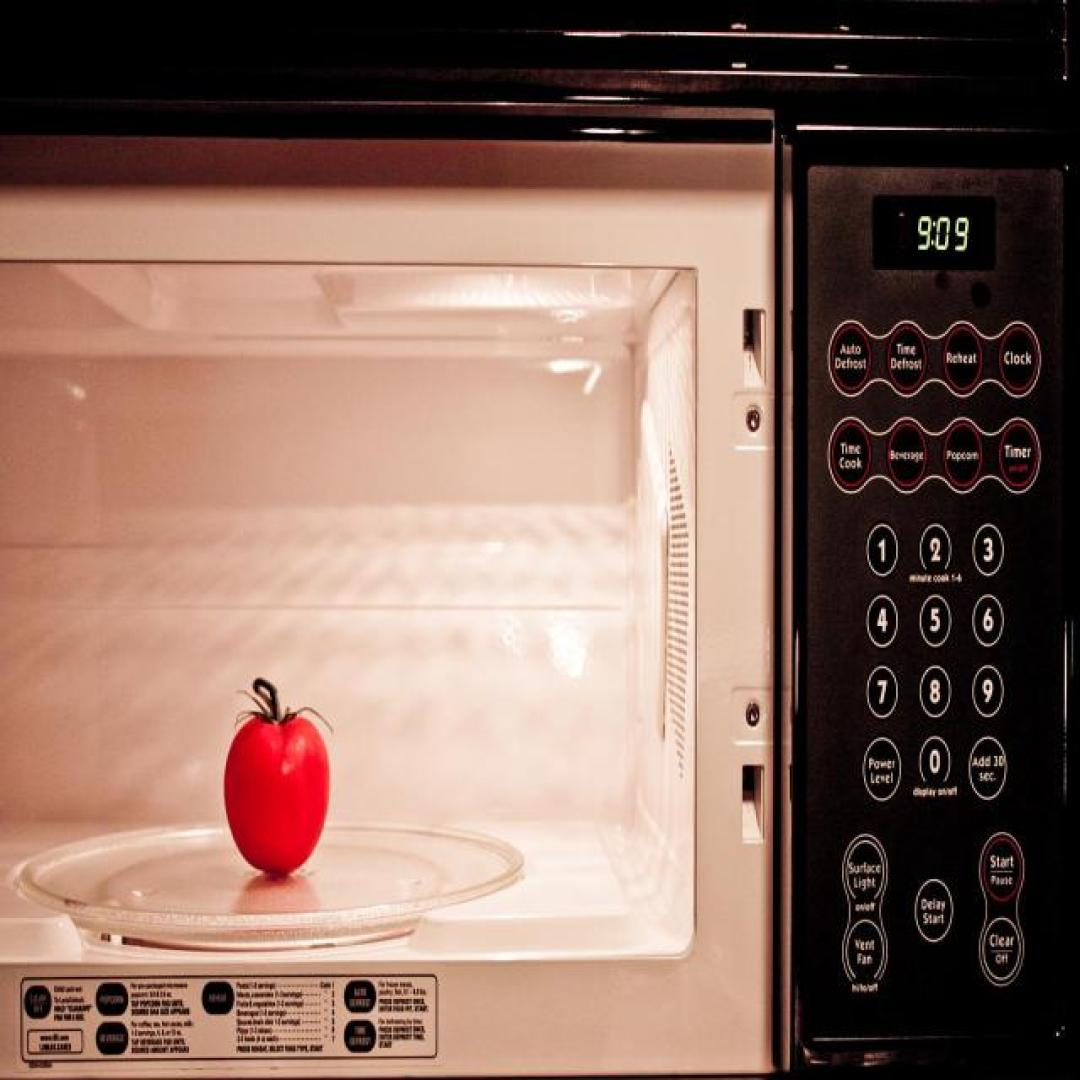matang: (223, 673, 332, 876)
